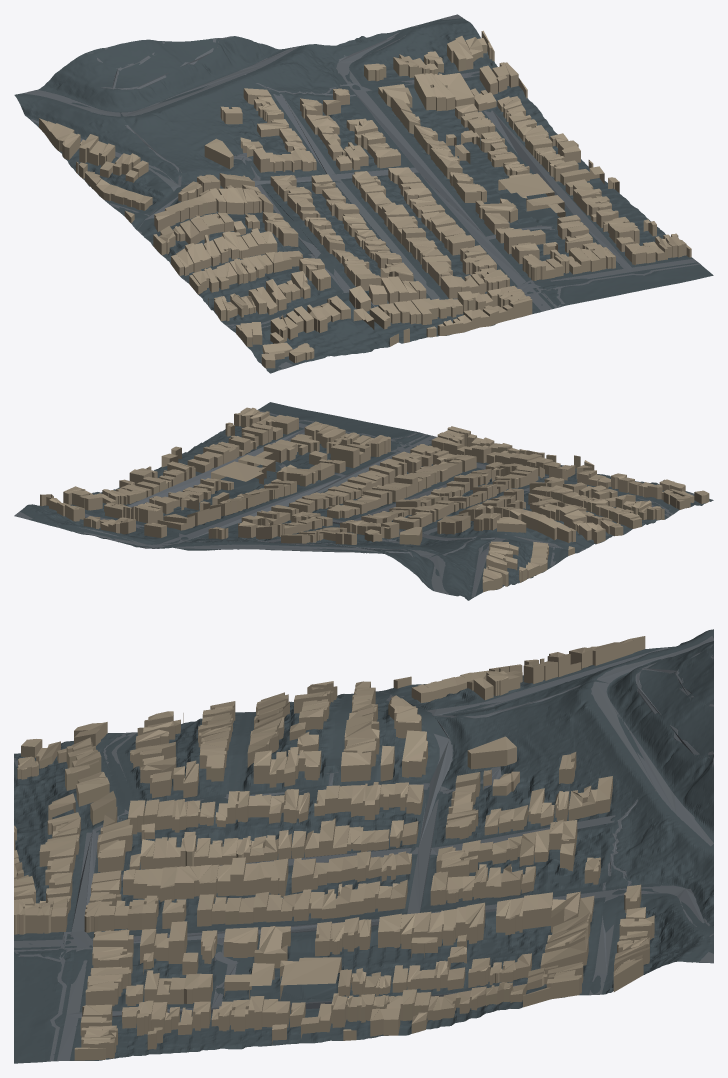
File: epsg26910-1436-10879.lod0.glb
3 renders of one model, top to bottom at view 1: azimuth 30°, elevation 25°; view 2: azimuth 150°, elevation 25°; view 3: azimuth 270°, elevation 25°, orthographic. The views are drawn at different scales.
Visible parts, largest first — view 1: epsg26910-1436-10879-lod0; view 2: epsg26910-1436-10879-lod0; view 3: epsg26910-1436-10879-lod0.
Boxes of the visible parts, left/top/right/bottom form: epsg26910-1436-10879-lod0: left=14, top=14, right=713, bottom=373; epsg26910-1436-10879-lod0: left=14, top=402, right=713, bottom=600; epsg26910-1436-10879-lod0: left=14, top=629, right=713, bottom=1063.
Size of the model in its own units: 384 by 105 by 384.
